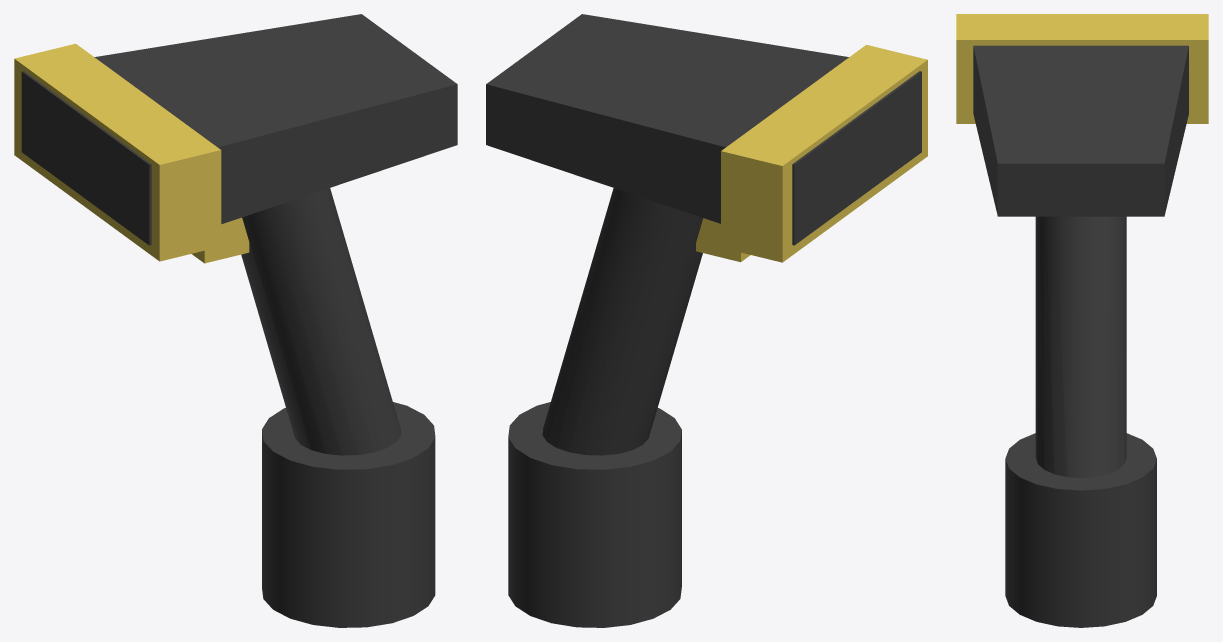
File: scanner.fbx
The picture shows the model from 3 angles, left to right: view 1: azimuth 30°, elevation 25°; view 2: azimuth 150°, elevation 25°; view 3: azimuth 270°, elevation 25°; orthographic projection. The views are drawn at different scales.
Parts seen in each view (by area): view 1: pCylinder4; view 2: pCylinder4; view 3: pCylinder4.
Boxes of the visible parts, bbox=[...] form: pCylinder4: bbox=[14, 14, 457, 627]; pCylinder4: bbox=[486, 14, 927, 627]; pCylinder4: bbox=[956, 14, 1208, 627].
Bounding box in the file's own units: 1.14 × 1.75 × 0.8489.
